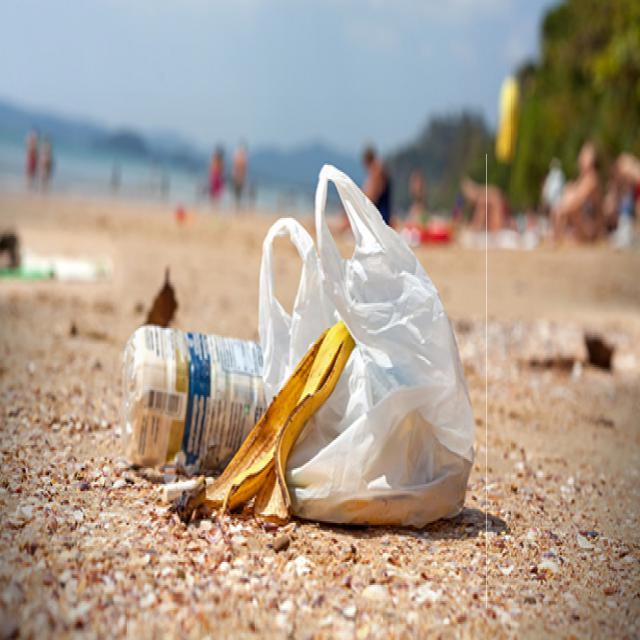Single-layer Plastic: (259, 165, 474, 527)
